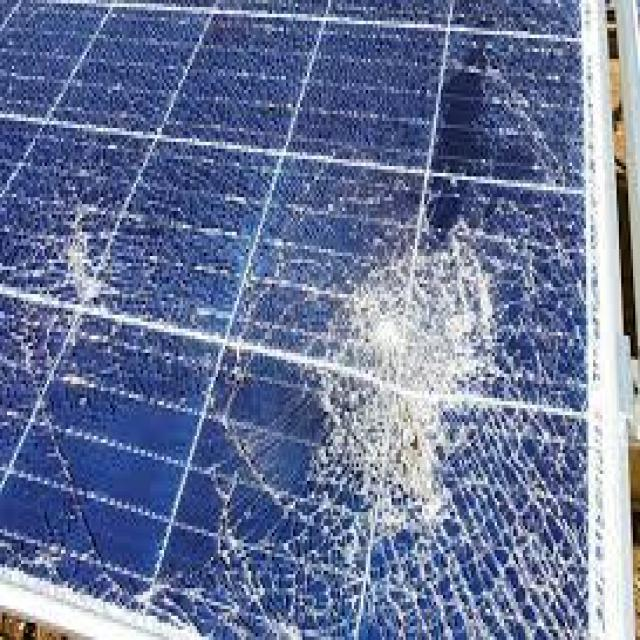faulty: (14, 0, 621, 640)
